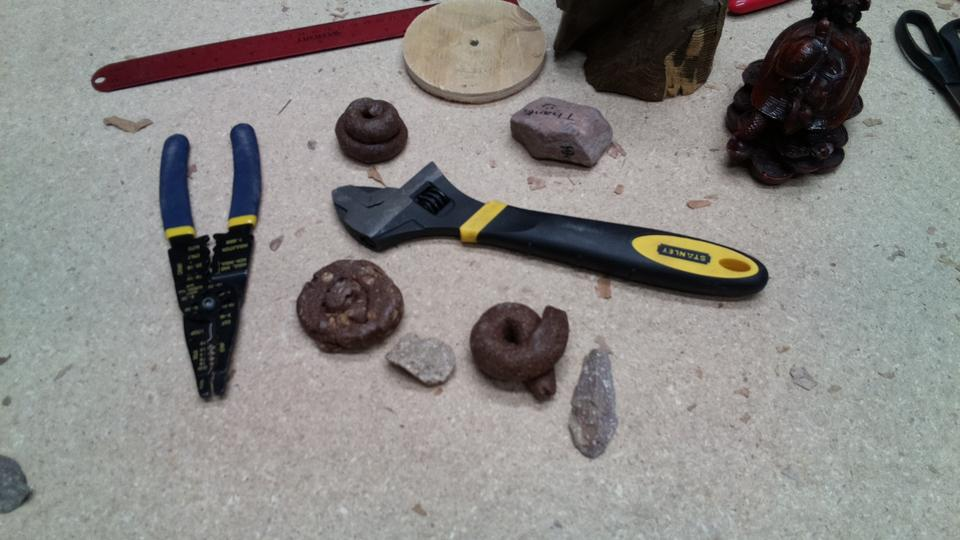poop: (292, 255, 402, 355), (469, 300, 572, 405), (333, 93, 410, 167)
